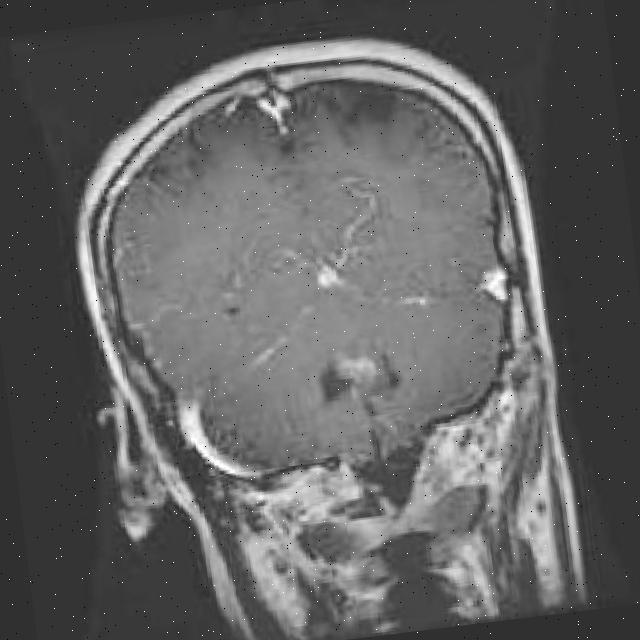EMCI: (303, 330, 454, 442)
